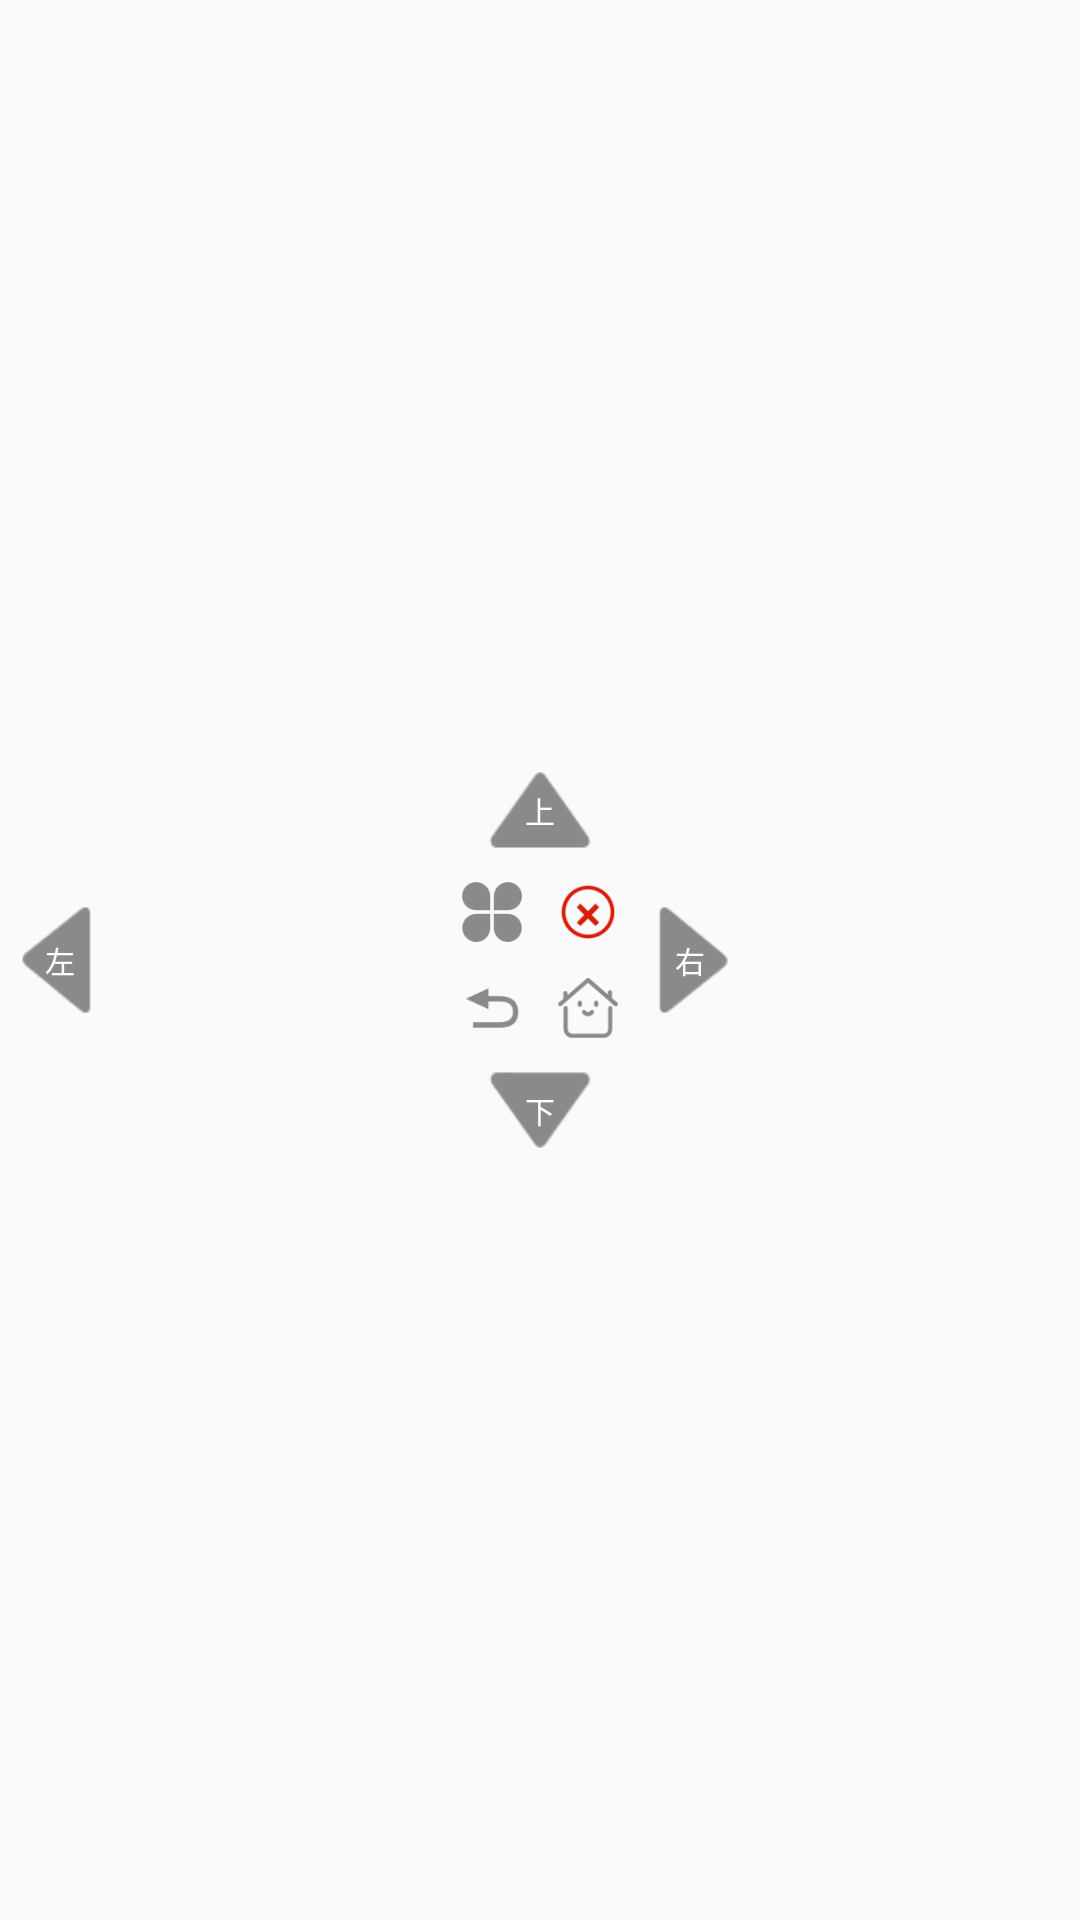

Icons on this 1080px×1920px Android screen, each with the point to tap as (x=x, y=y):
close: (x=588, y=912)
